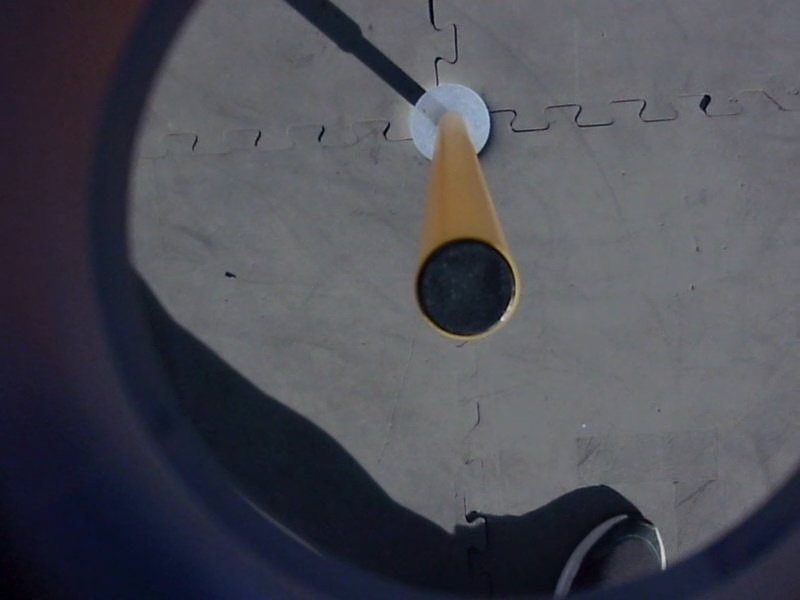tip: (409, 230, 525, 345)
